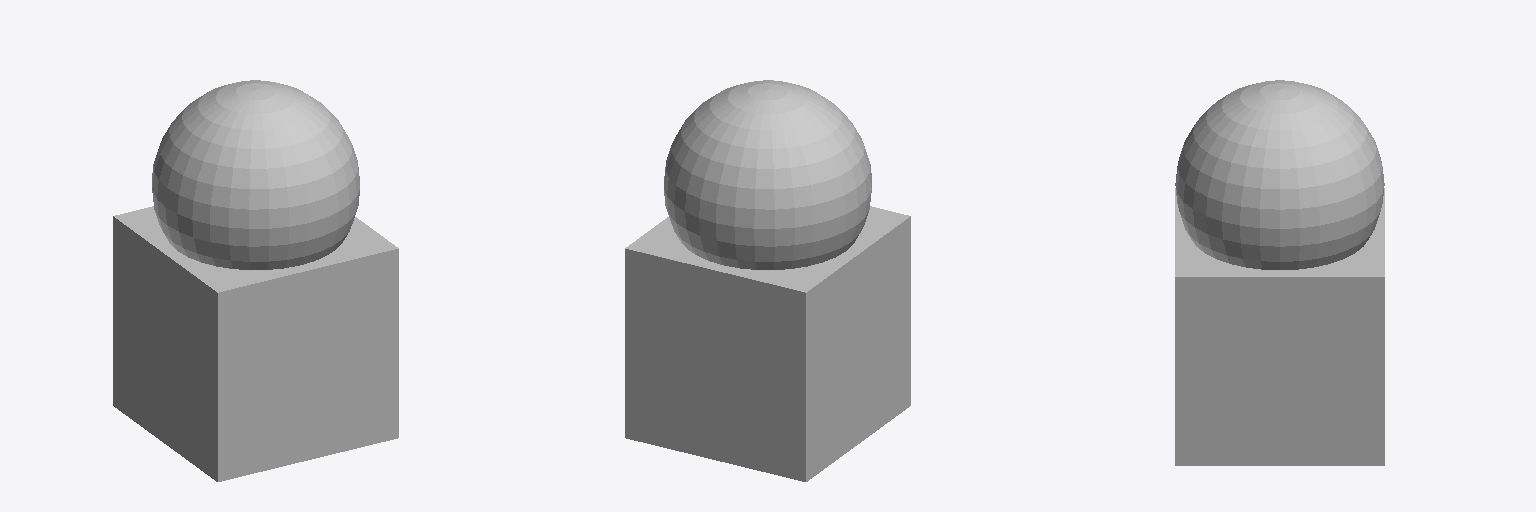
The model's file is SmallBush.obj.
3 views of the same model, side by side, from view 1: azimuth 30°, elevation 25°; view 2: azimuth 150°, elevation 25°; view 3: azimuth 270°, elevation 25° (orthographic).
Visible parts, largest first — view 1: Cube; view 2: Cube; view 3: Cube.
Boxes of the visible parts, x1,y1,x2,y2 form: Cube: [113, 80, 398, 481]; Cube: [625, 80, 910, 481]; Cube: [1175, 80, 1384, 465].
Size of the model in its own units: 2 by 3.5 by 2.